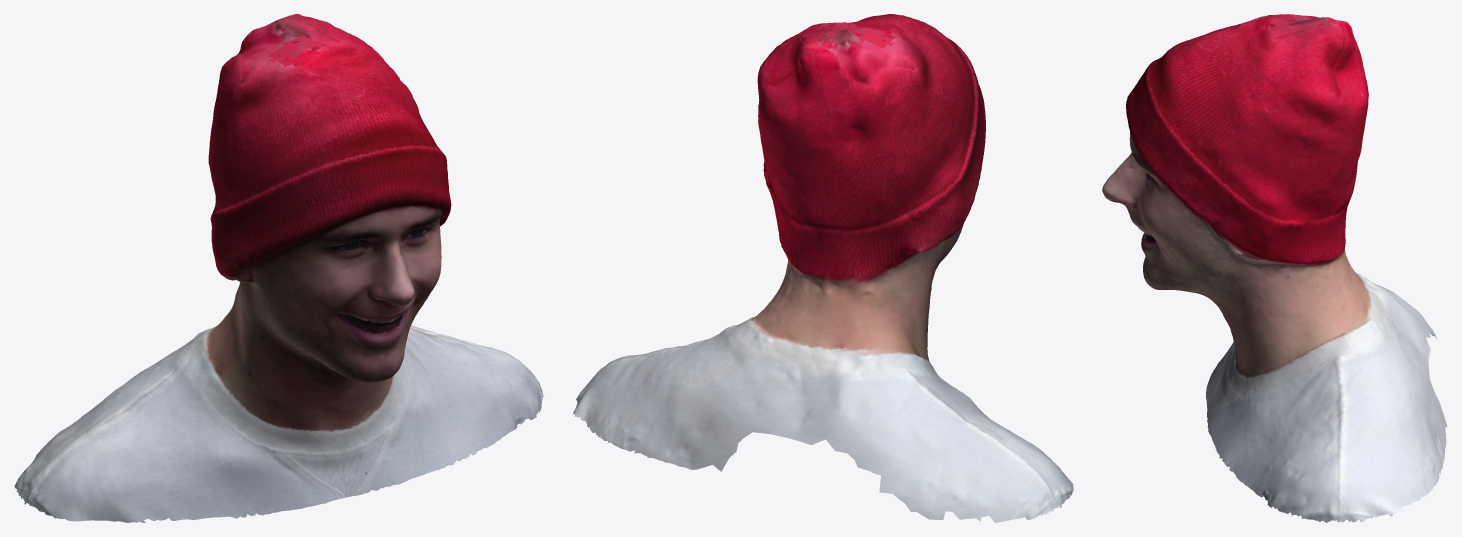
Rendered from myFace-draco.glb.
3 renders of one model, left to right at view 1: azimuth 30°, elevation 25°; view 2: azimuth 150°, elevation 25°; view 3: azimuth 270°, elevation 25°, orthographic. The views are drawn at different scales.
Parts seen in each view (by area): view 1: model; view 2: model; view 3: model.
Boxes of the visible parts, x1,y1,x2,y2 form: model: (14, 14, 543, 522); model: (573, 14, 1073, 522); model: (1102, 14, 1447, 522).
Bounding box in the file's own units: 3.29 × 2.66 × 2.13.
1 material, 1 textured.
